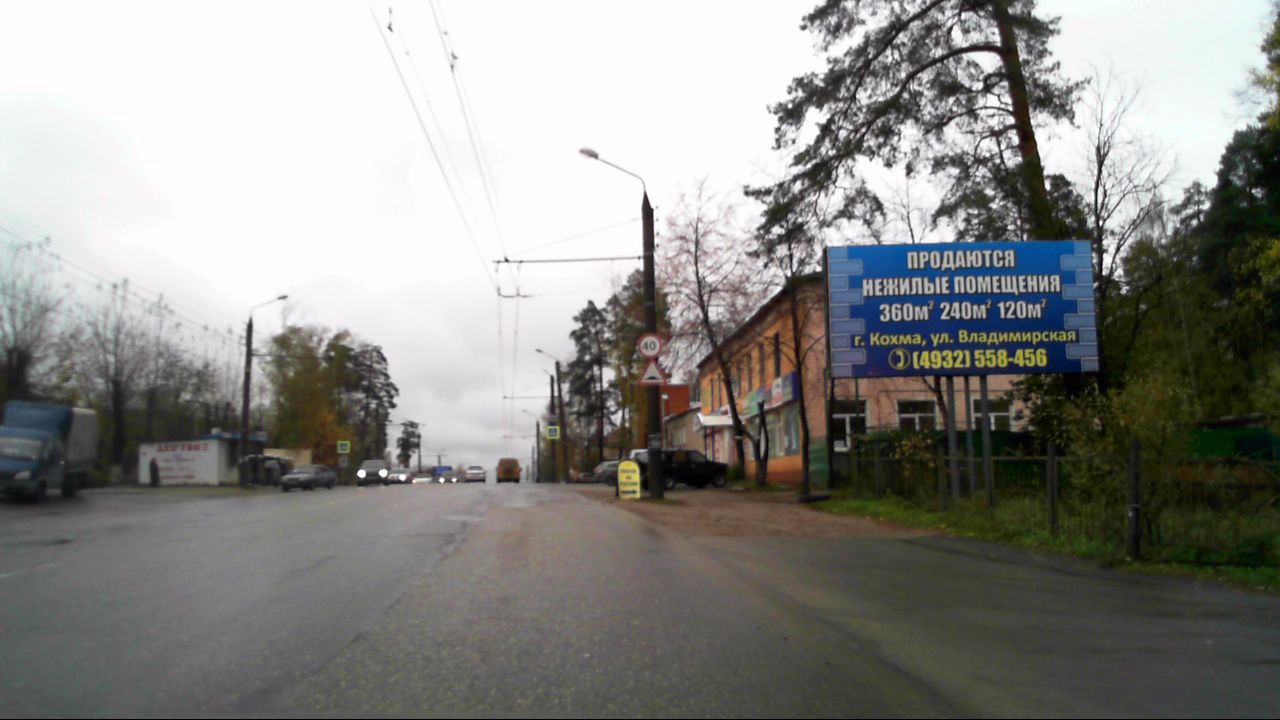speed_warning_40: (636, 334, 662, 360)
